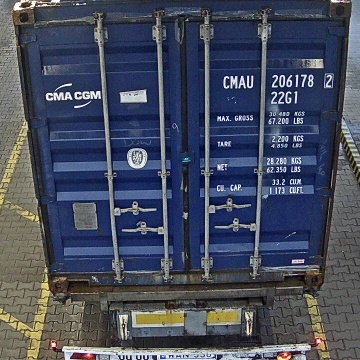serial_id: (223, 73, 333, 88)
